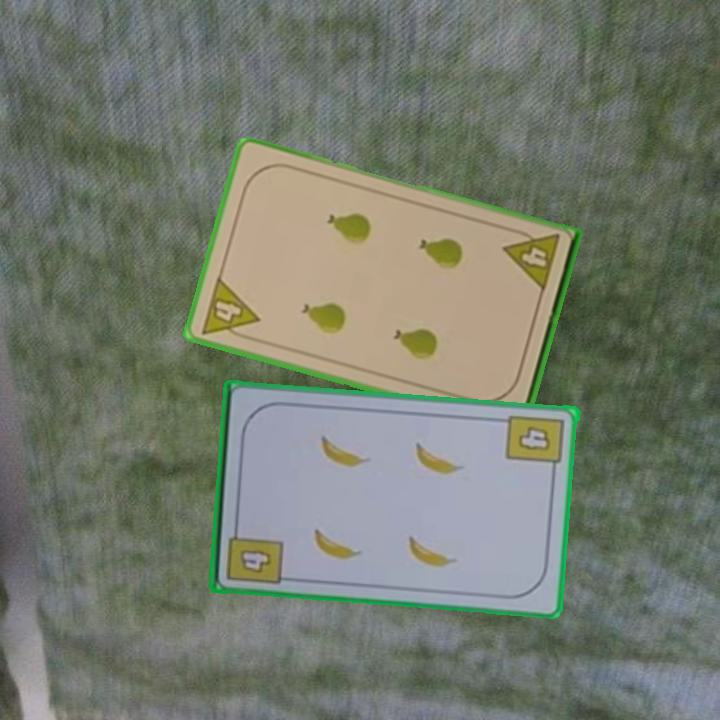4b: (504, 411, 568, 477), (236, 545, 275, 576)
4p: (198, 273, 262, 345), (500, 224, 563, 295)
